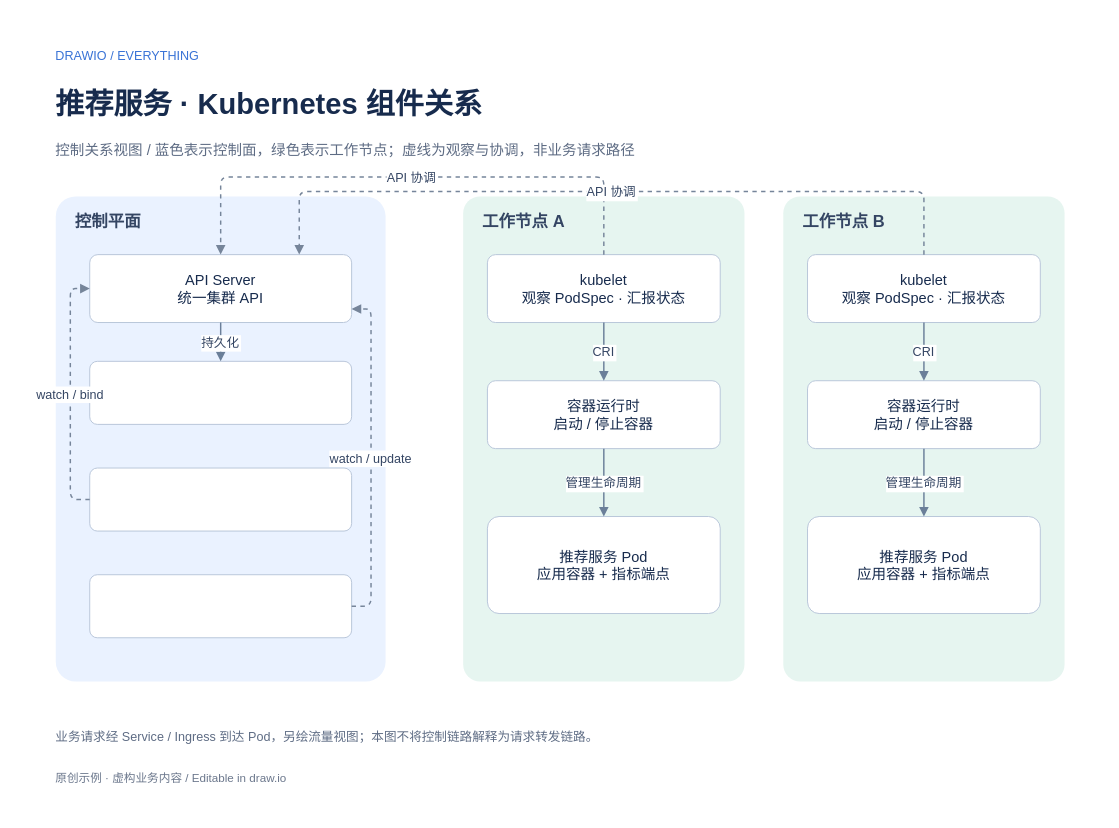
Image size: 1119x828. Some labels were removed from this diagram. The shapes that lost their labels are listed below. From the top down, each one's centre as x and y in pixels, then its label:
At (x=220, y=392): "etcd 集群状态存储".
At (x=220, y=499): "Scheduler 为待调度 Pod 选择节点".
At (x=220, y=606): "Controller Manager 期望状态协调".
